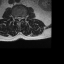CCS_normal: (18, 15, 20, 23)
LFS_stenosis: (22, 14, 24, 20)
LLS_normal: (20, 15, 22, 21)
RFS_stenosis: (14, 14, 17, 20)
RLS_normal: (17, 15, 18, 21)
